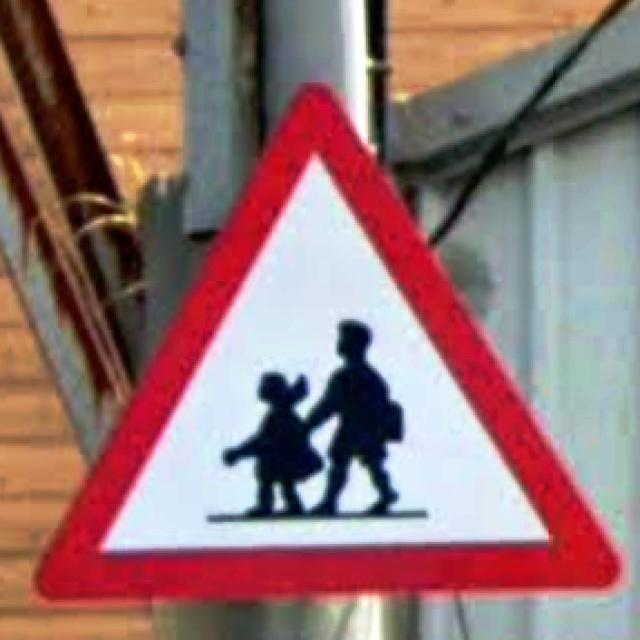childrencross: (35, 85, 622, 603)
